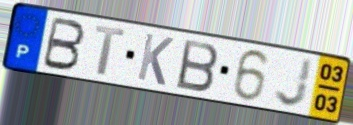6: (230, 48, 272, 104)
B: (40, 15, 88, 73), (175, 37, 221, 94)
J: (273, 55, 316, 109)
K: (135, 31, 176, 88)
T: (93, 24, 128, 78)
